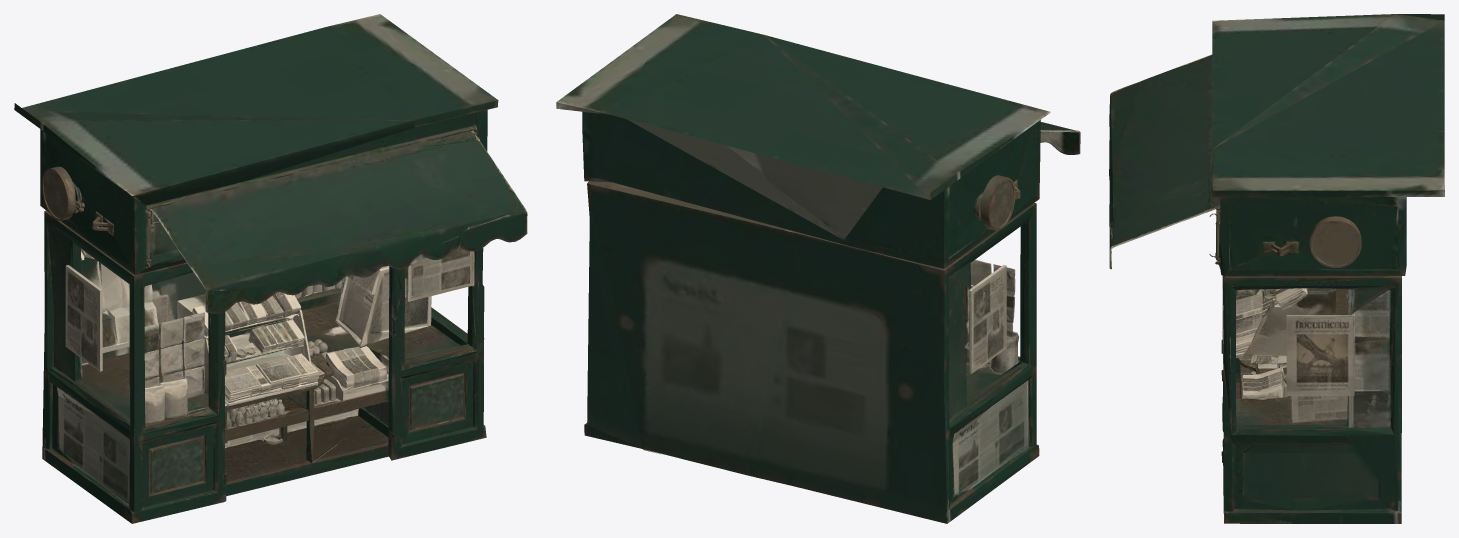
File: newsstand.glb
3 views of the same model, side by side, from view 1: azimuth 30°, elevation 25°; view 2: azimuth 150°, elevation 25°; view 3: azimuth 270°, elevation 25° (orthographic). The views are drawn at different scales.
Bounding box in the file's own units: 1.9 × 1.57 × 1.42.
1 material, 1 textured.
